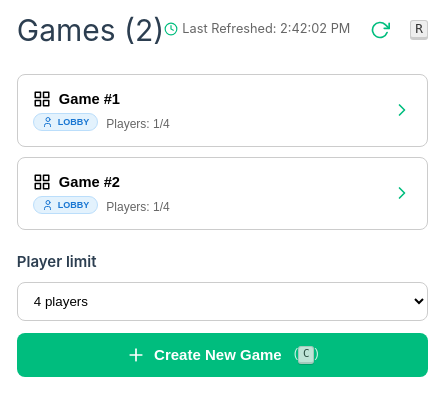
Scenario: DashboardView.vue accessibility and UX › shows joining state and disables buttons when joining a game
Click the button with class "game-item" showing "Game #1 LOBBY Players: 1/4".
click(89, 98)  # box [17,74,428,146]
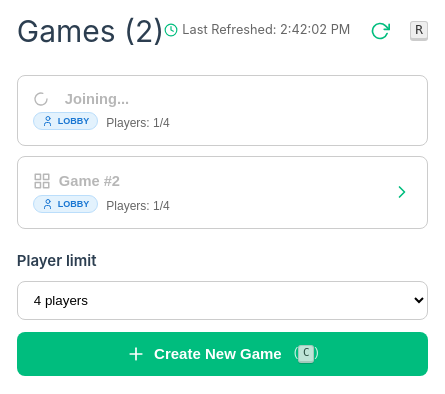
Expected: the button with class "game-item" shows "Joining...", [17,74,428,146]
Expected: the button with class "game-item" showing "Joining... LOBBY Players: 1/4" is disabled, [17,74,428,146]
Expected: the button with class "game-item" showing "Game #2 LOBBY Players: 1/4" is disabled, [17,156,428,228]
